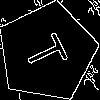T: (22, 27, 77, 76)
